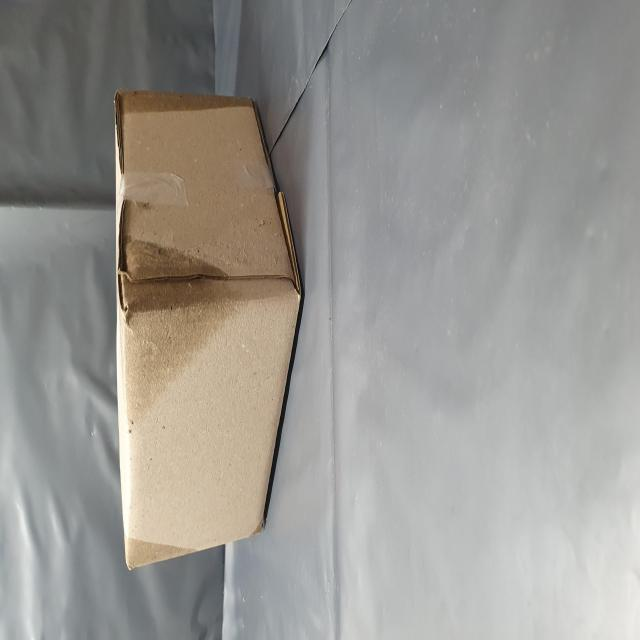wet: (116, 198, 249, 444)
